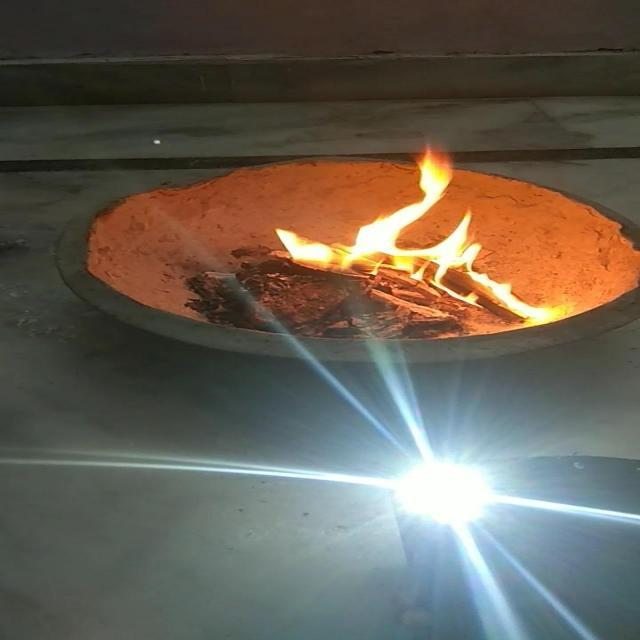fire: (286, 136, 572, 325)
smoke: (316, 367, 596, 568)
